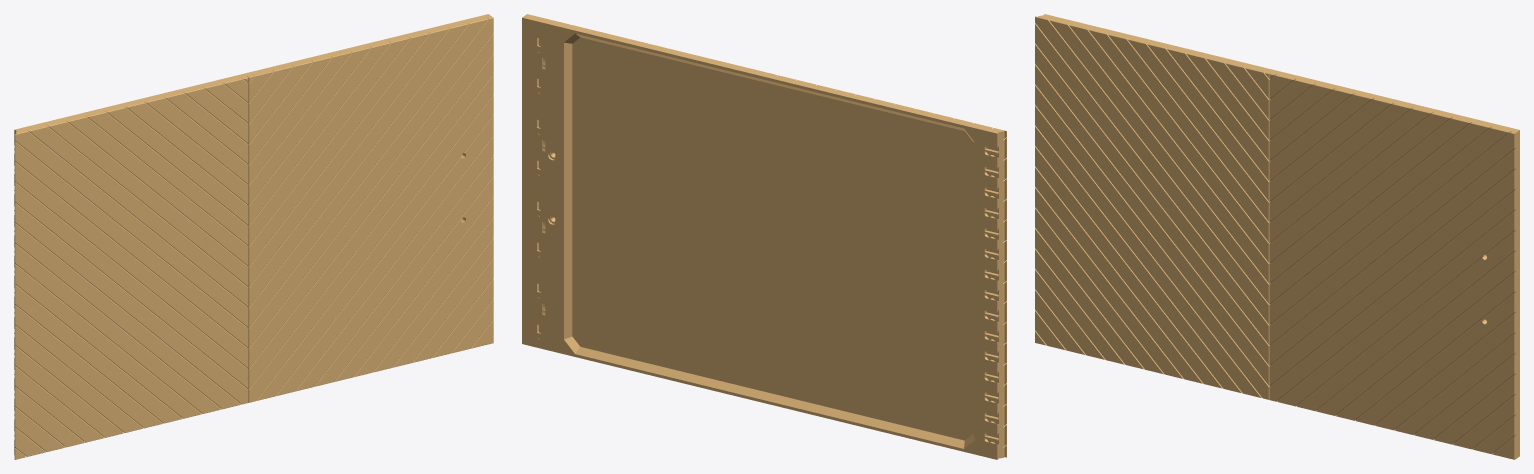
Rendered from Door_Chevron_4W-4H.lib.glb.
3 renders of one model, left to right at view 1: azimuth 30°, elevation 25°; view 2: azimuth 150°, elevation 25°; view 3: azimuth 330°, elevation 25°, orthographic.
Parts seen in each view (by area): view 1: Door_Chevron_4W-4H; view 2: Door_Chevron_4W-4H; view 3: Door_Chevron_4W-4H.
Part boxes in pixels (x1,y1,x2,y2): Door_Chevron_4W-4H: (14,14,493,459); Door_Chevron_4W-4H: (522,14,1006,459); Door_Chevron_4W-4H: (1035,14,1519,459).
Size of the model in its own units: 343 by 223 by 6.49.
